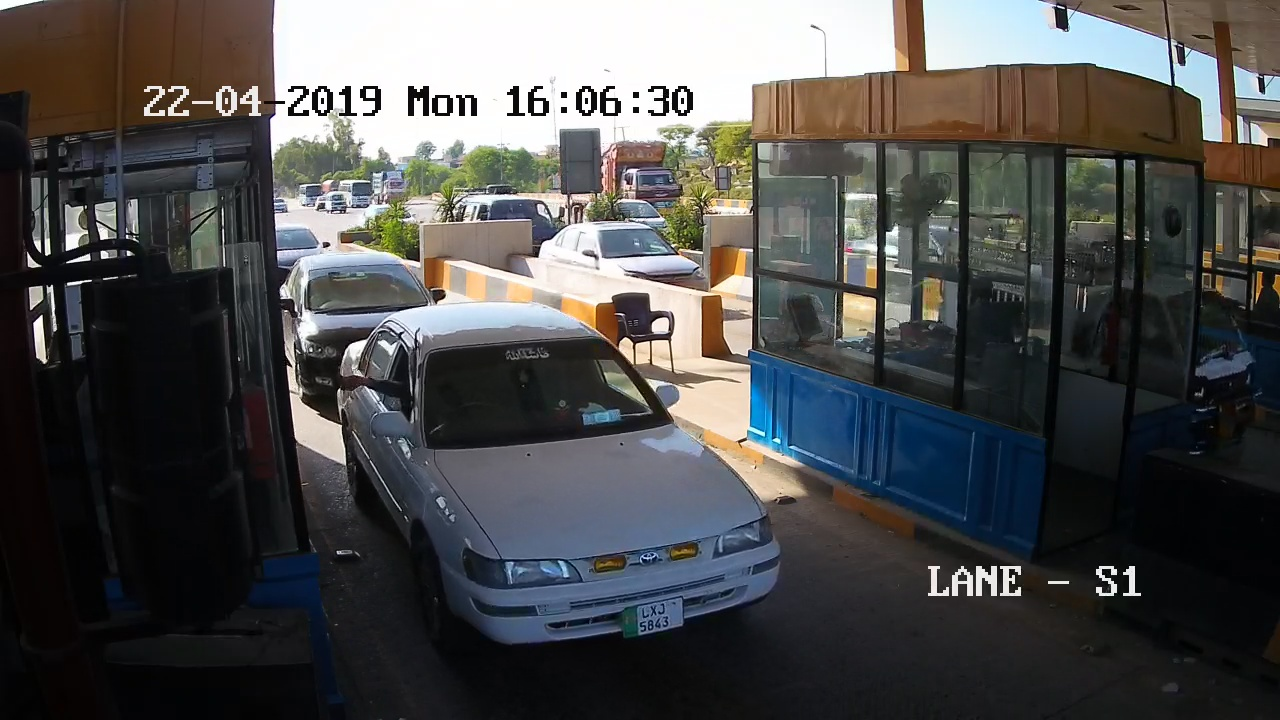Number Plate (Car): (619, 598, 688, 635)
